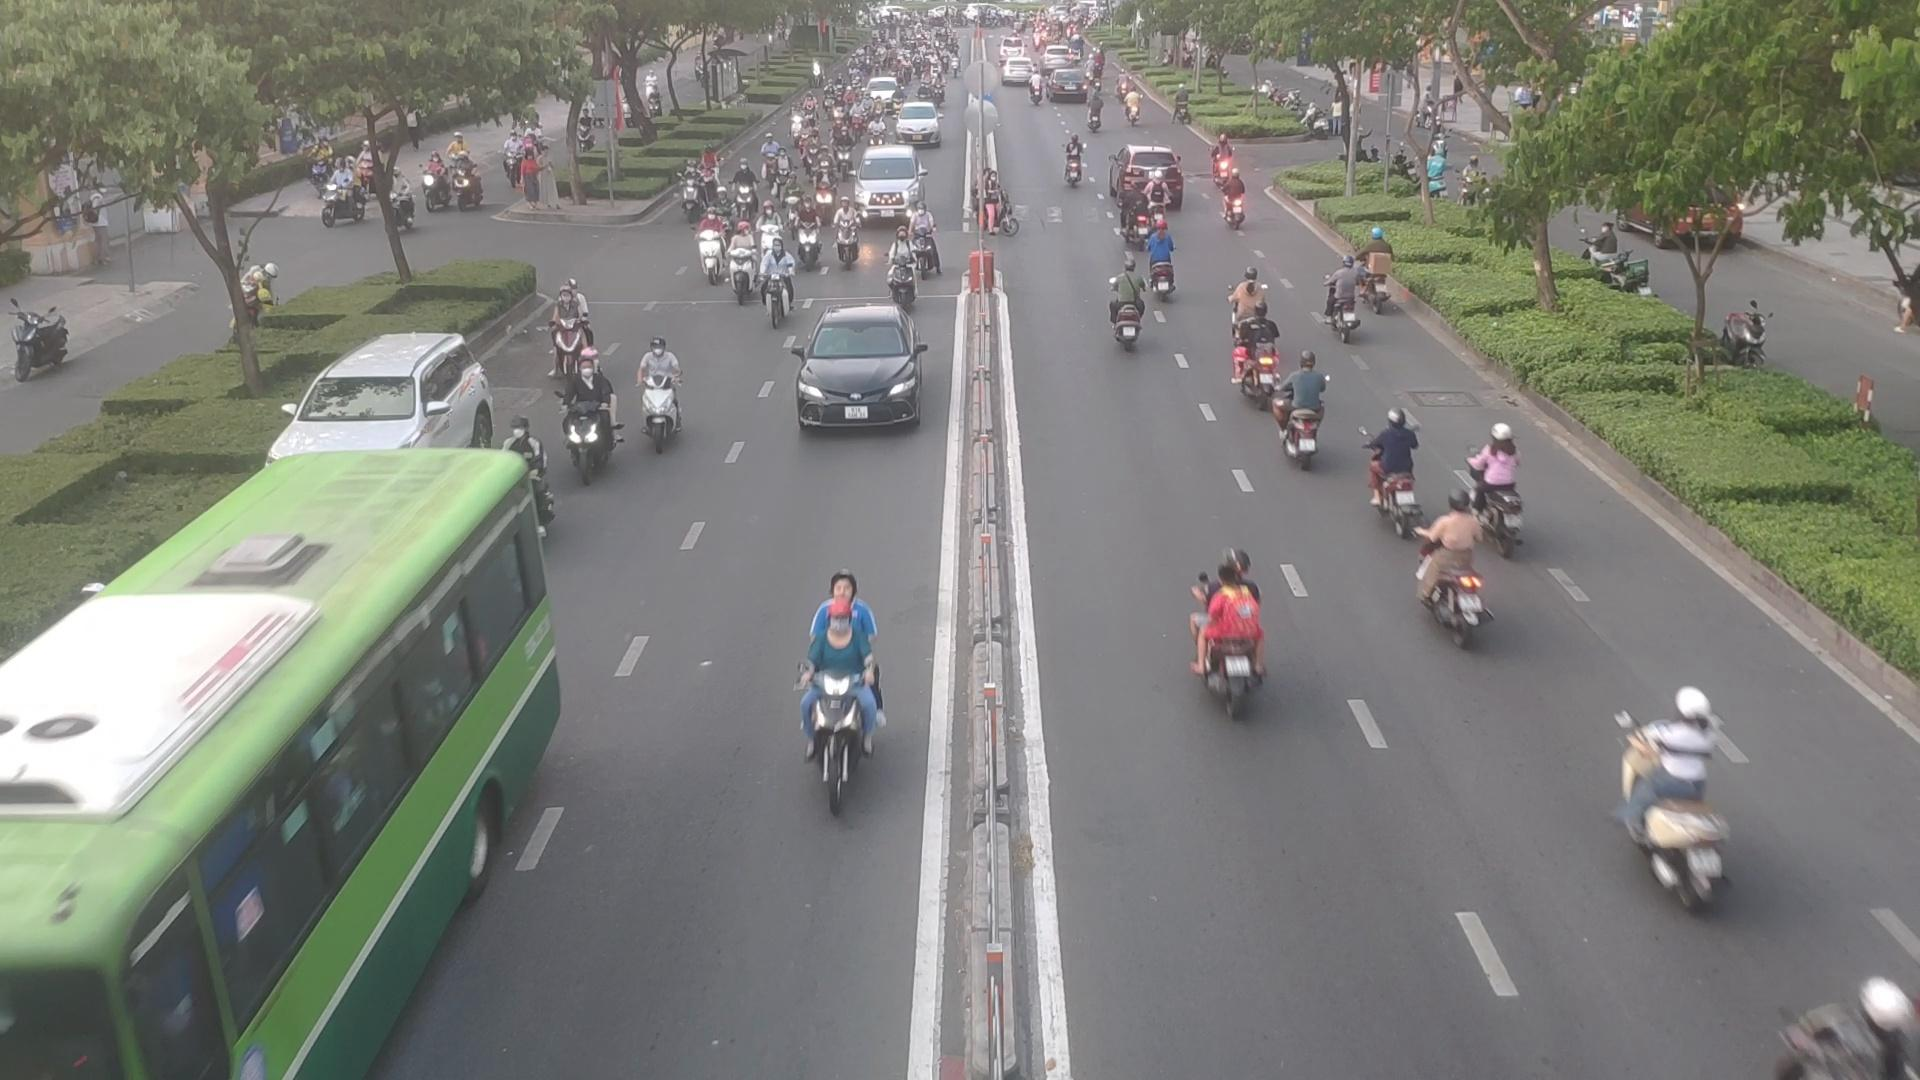bus: (0, 448, 554, 1080)
car: (272, 328, 509, 455), (787, 305, 926, 429)
motorbike: (1611, 687, 1741, 905), (789, 578, 897, 811), (1774, 968, 1920, 1075), (1187, 545, 1283, 707), (1415, 501, 1503, 641), (566, 349, 628, 480), (1462, 426, 1526, 547), (1371, 411, 1432, 535), (1226, 276, 1284, 405), (636, 339, 692, 442), (1269, 375, 1328, 467), (1105, 268, 1162, 352), (1324, 255, 1369, 340), (971, 171, 1023, 241), (895, 210, 944, 278), (692, 215, 738, 284), (1143, 235, 1182, 301), (1367, 222, 1396, 301), (1218, 166, 1250, 227), (1058, 142, 1092, 193)
